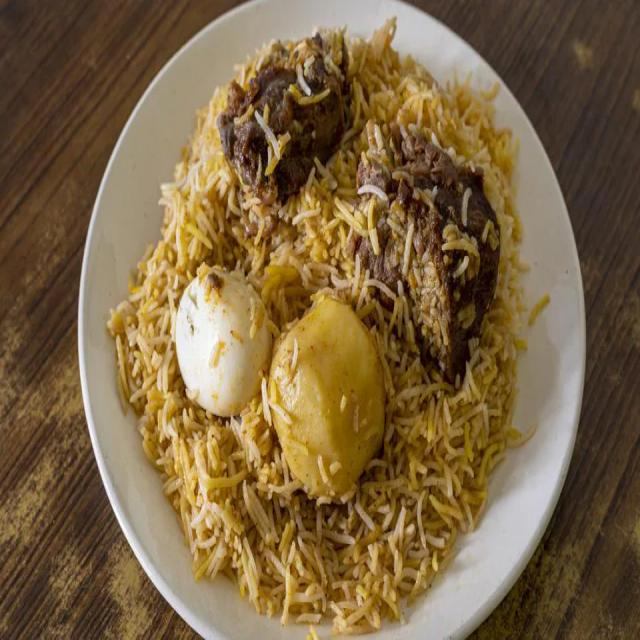Rice: (108, 16, 536, 640)
